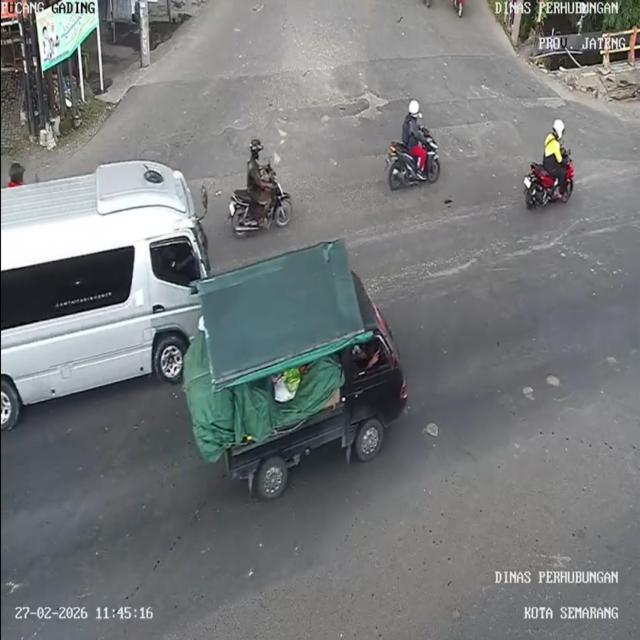motorcycle: (223, 182, 294, 240), (384, 138, 446, 188), (526, 157, 579, 211)
person: (243, 134, 272, 198), (540, 117, 566, 175), (400, 96, 424, 156)
rider_region: (228, 136, 296, 242), (384, 99, 442, 193), (523, 118, 575, 212)
